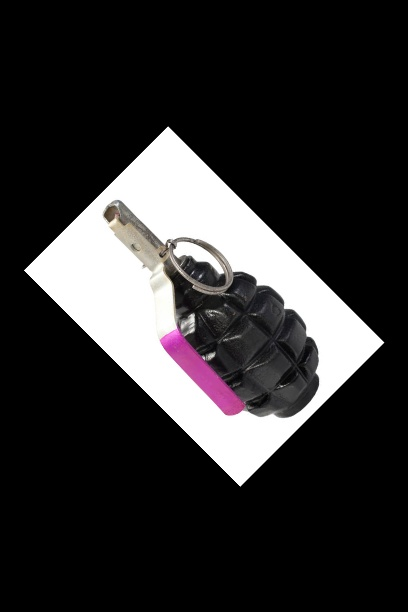e1: (101, 198, 320, 420)
